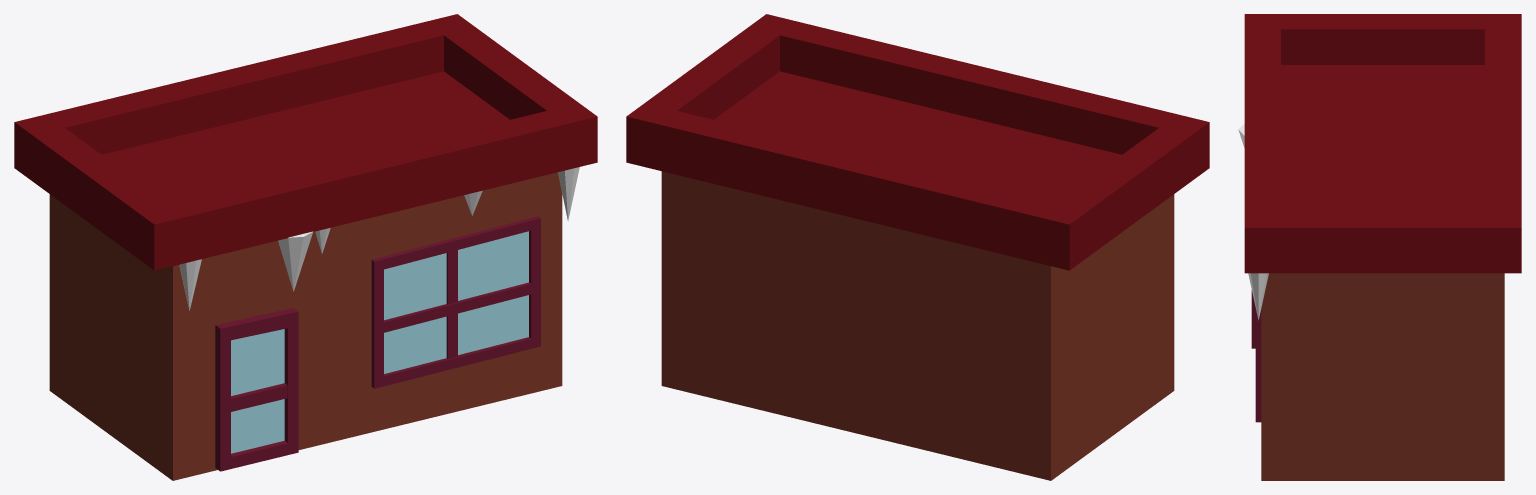
Rendered from Detectives_office.fbx.
3 renders of one model, left to right at view 1: azimuth 30°, elevation 25°; view 2: azimuth 150°, elevation 25°; view 3: azimuth 270°, elevation 25°, orthographic.
Parts seen in each view (by area): view 1: Detectives office; view 2: Detectives office; view 3: Detectives office.
Part boxes in pixels (left/top/right/bottom): Detectives office: left=14, top=14, right=597, bottom=480; Detectives office: left=626, top=14, right=1209, bottom=480; Detectives office: left=1238, top=14, right=1521, bottom=480.
Bounding box in the file's own units: 1580 × 917 × 885.
